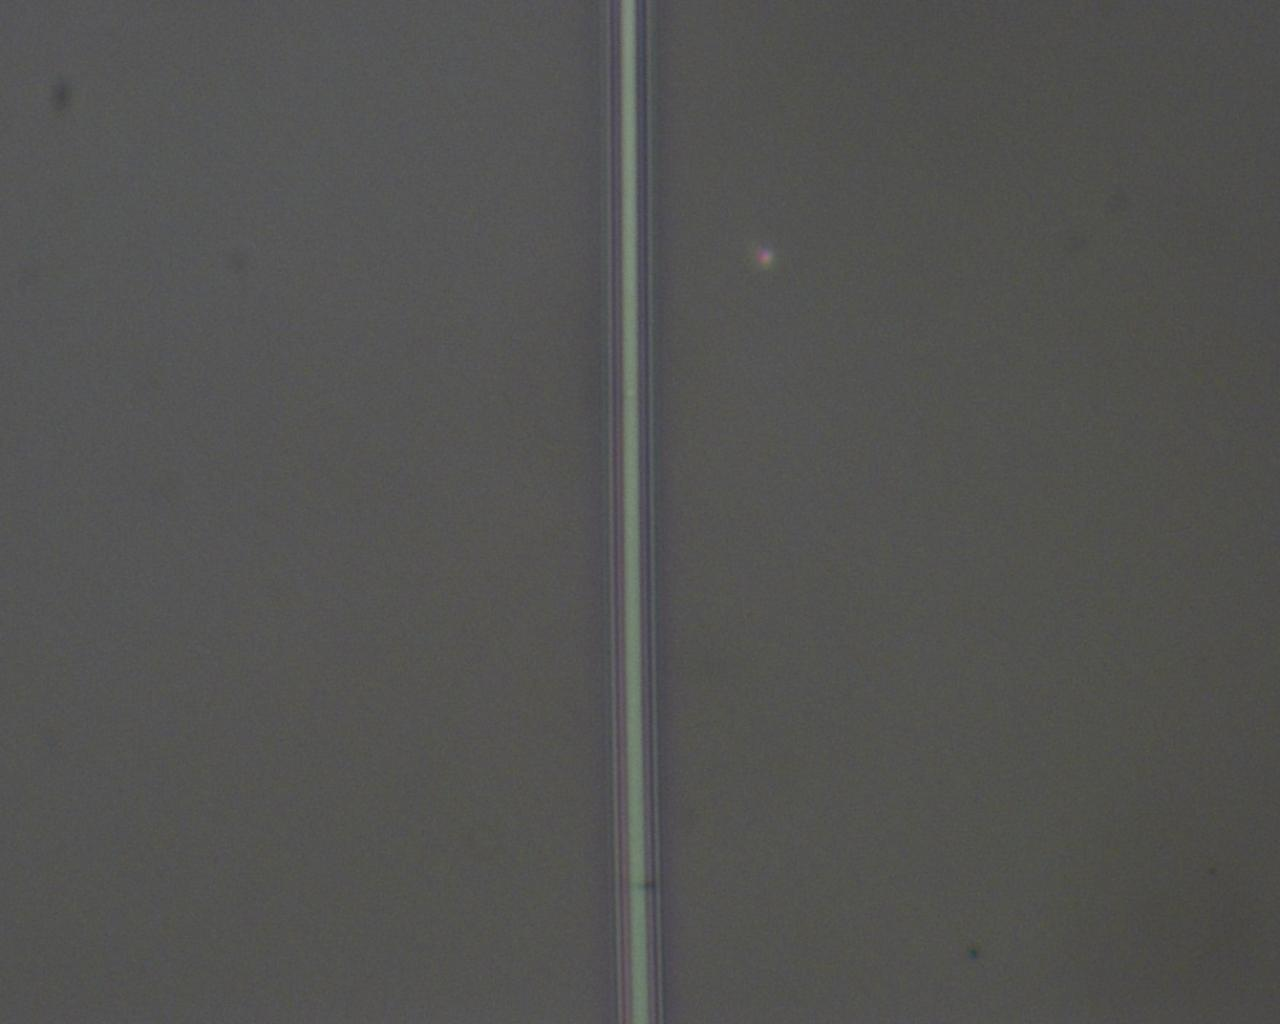fiber: (652, 655, 1280, 851), (0, 883, 652, 1024), (823, 0, 893, 146)
